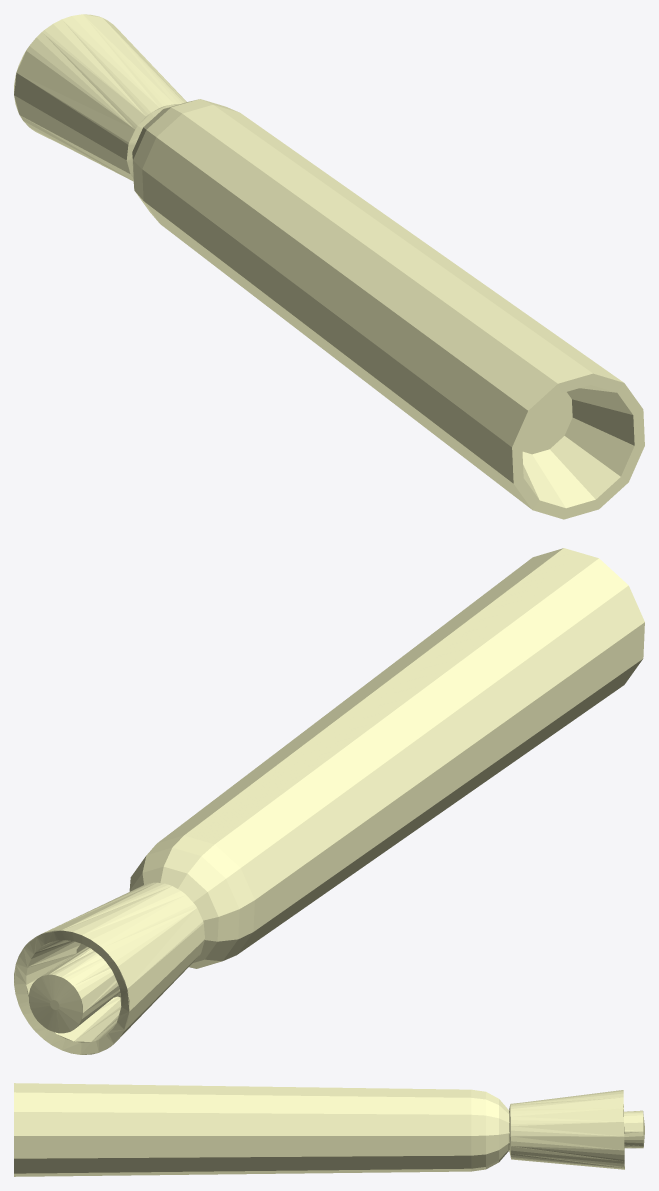
Rendered from pen2_3.dae.
The picture shows the model from 3 angles, top to bottom: view 1: azimuth 30°, elevation 25°; view 2: azimuth 150°, elevation 25°; view 3: azimuth 270°, elevation 25°; orthographic projection. The views are drawn at different scales.
Parts seen in each view (by area): view 1: pen2_019; view 2: pen2_019; view 3: pen2_019.
Boxes of the visible parts, x1,y1,x2,y2 form: pen2_019: [14, 14, 644, 519]; pen2_019: [14, 548, 644, 1054]; pen2_019: [14, 1083, 644, 1176].
Size of the model in its own units: 0.038 by 0.2596 by 0.038.
